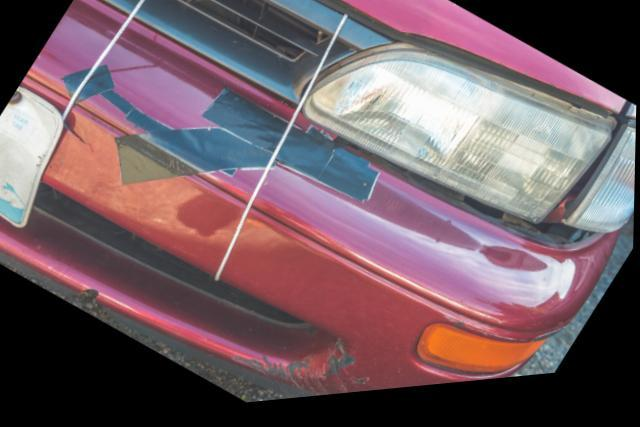crack: (64, 124, 94, 153)
dislocated part: (85, 96, 625, 402)
scratch: (228, 345, 374, 402)
